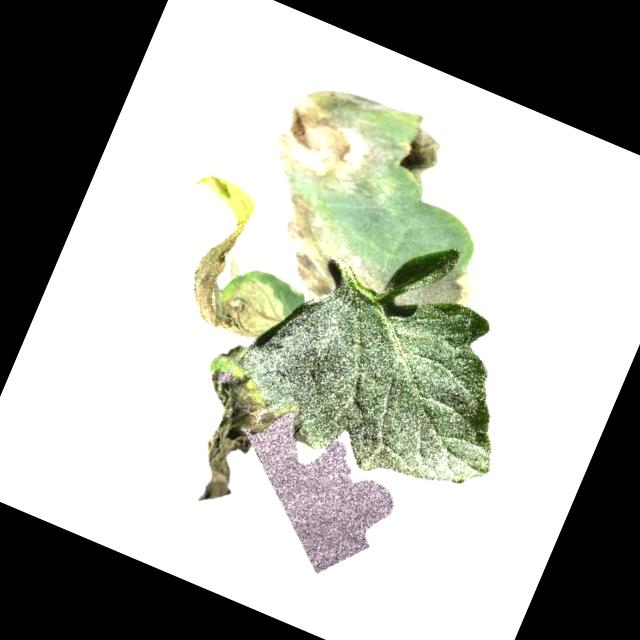Late_blight: (138, 163, 325, 353), (265, 64, 454, 226), (155, 343, 295, 516), (254, 188, 404, 320), (395, 249, 483, 328)
healthy: (220, 232, 546, 514)
